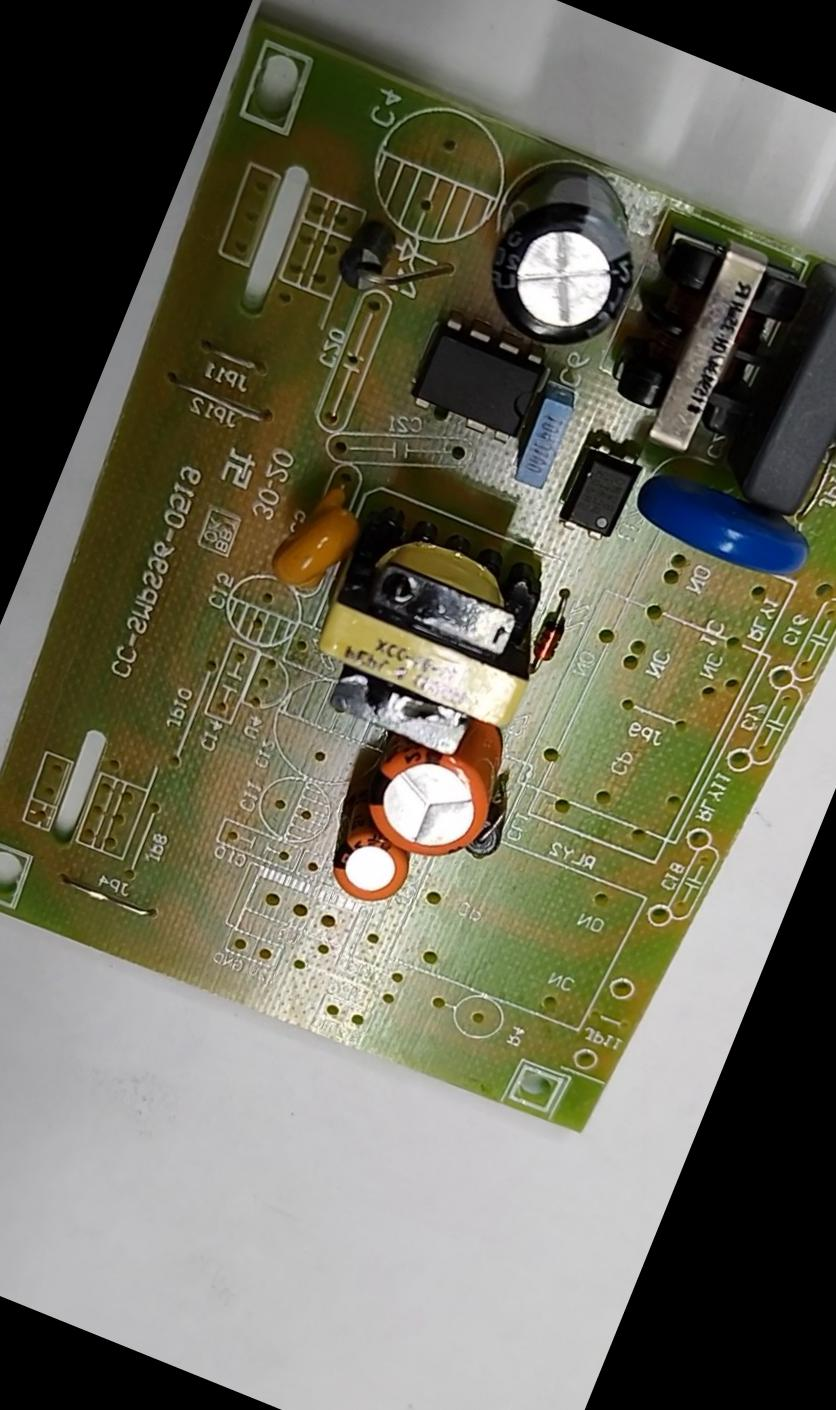Cap1: (351, 732, 506, 871)
Cap2: (320, 822, 414, 915)
Cap3: (474, 147, 662, 364)
MOSFET: (407, 314, 550, 448)
Mov: (628, 474, 816, 592)
Transformer: (300, 502, 571, 772), (596, 224, 808, 468)
